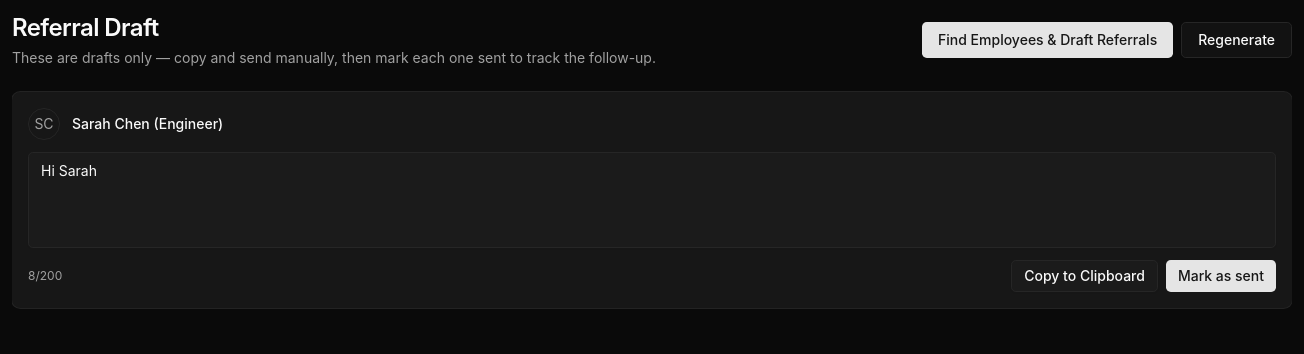
ReferralDraft › shows an error and allows retry when recording the send fails
Click the button "Mark as sent".
click(1221, 276)  # box top-left (1166, 260), bottom-right (1276, 292)
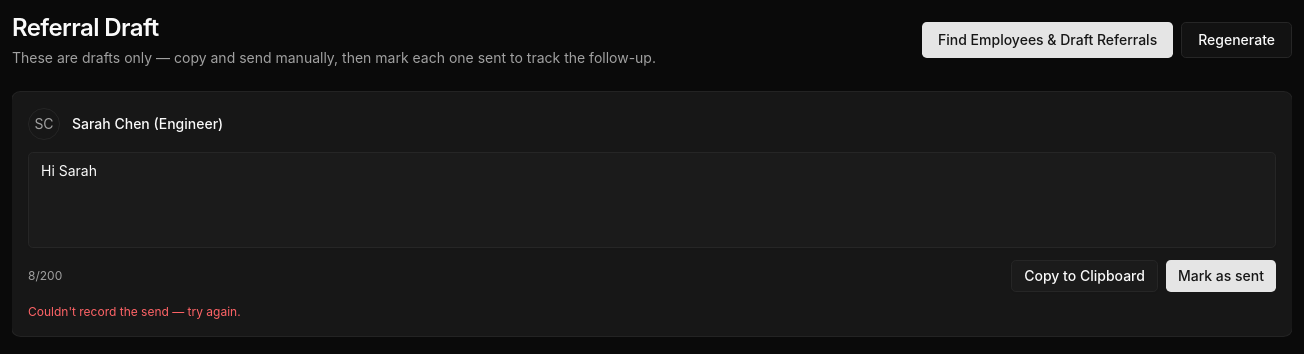
Now the message shows "Couldn't record the send", box top-left (28, 304), bottom-right (241, 319)
